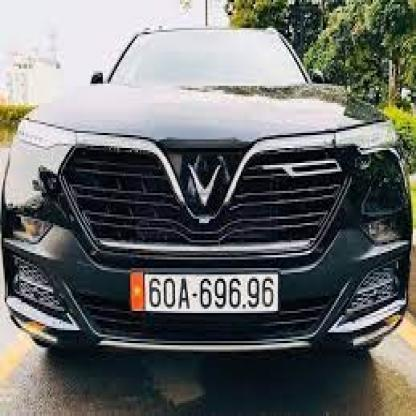biensoxe: (130, 269, 281, 316)
